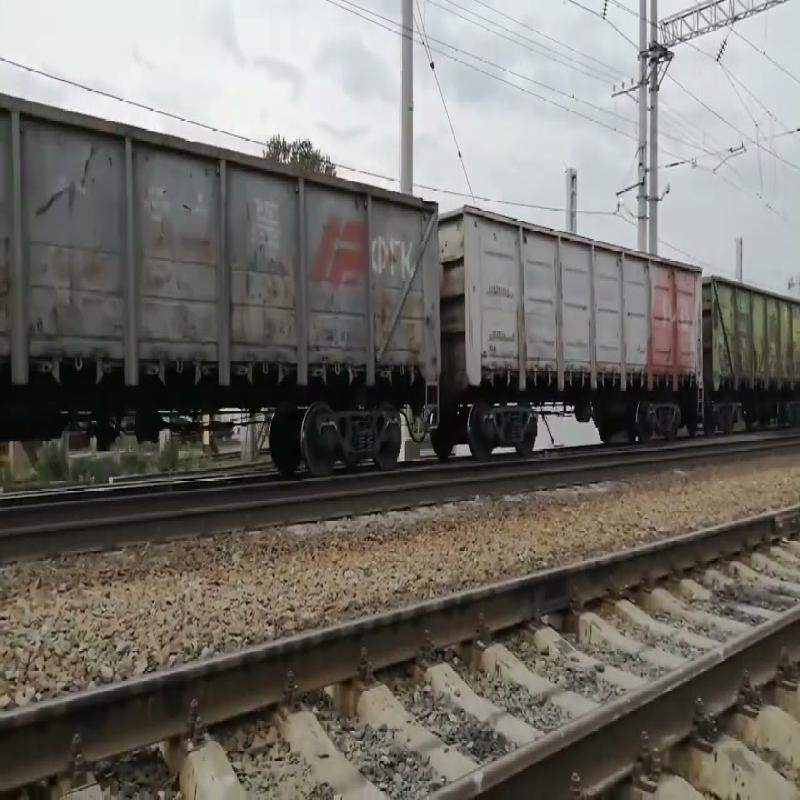train: (1, 106, 463, 486), (436, 223, 733, 460), (701, 258, 800, 430)
